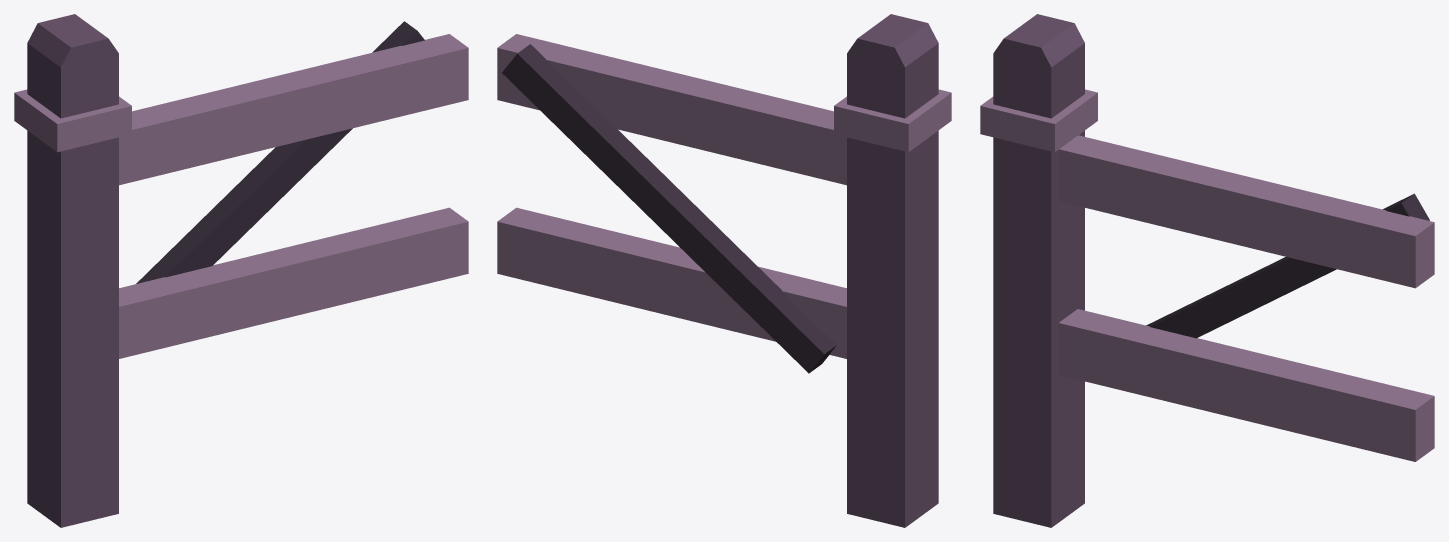
The model's file is TW_WOOD_RAIL_1M_B_LOD0.glb.
3 views of the same model, side by side, from view 1: azimuth 30°, elevation 25°; view 2: azimuth 150°, elevation 25°; view 3: azimuth 330°, elevation 25° (orthographic).
Parts seen in each view (by area): view 1: TW_WOOD_RAIL_1M_B_LOD0; view 2: TW_WOOD_RAIL_1M_B_LOD0; view 3: TW_WOOD_RAIL_1M_B_LOD0.
Part boxes in pixels (left/top/right/bottom): TW_WOOD_RAIL_1M_B_LOD0: left=14, top=14, right=468, bottom=527; TW_WOOD_RAIL_1M_B_LOD0: left=497, top=14, right=951, bottom=527; TW_WOOD_RAIL_1M_B_LOD0: left=980, top=14, right=1434, bottom=527.
Size of the model in its own units: 1.02 by 1.1 by 0.1825.
1 material, 1 textured.
